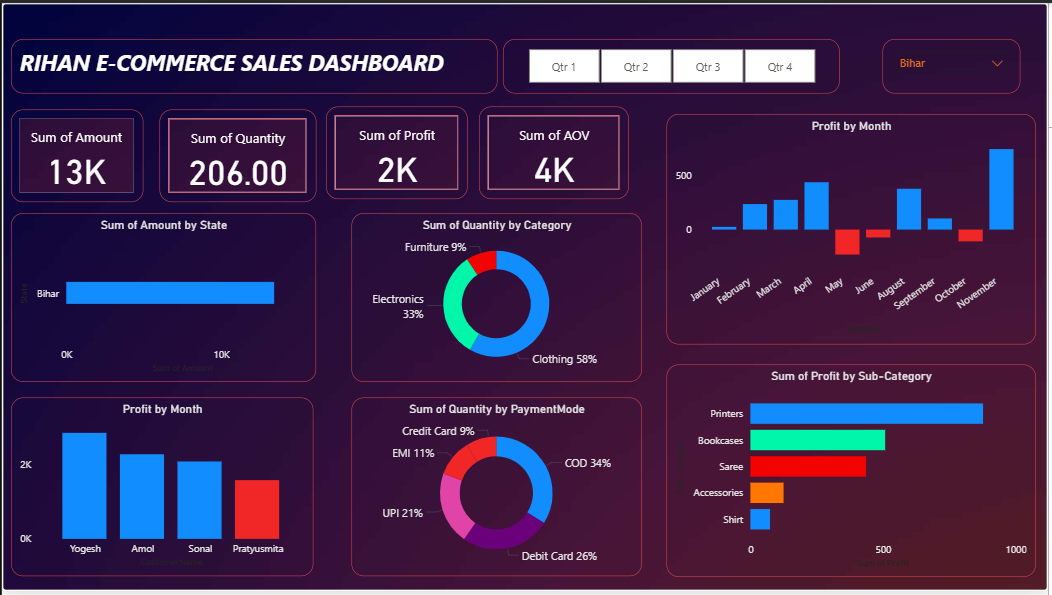

This screenshot's page, from the dashboard's own definition file:
{"tool":"powerbi","page":{"name":"Page 1","canvas":[1280,720],"ordinal":0},"visuals":[{"type":"textbox","box":[11.7,43.3,595,66.7],"z":0},{"type":"columnChart","title":" Profit by Month","fields":{"Y":["Details.Profit"],"Category":["Orders.Order Date.Variation.Date Hierarchy.Month"]},"box":[813.3,135,451.7,281.7],"z":1000},{"type":"barChart","fields":{"Category":["Details.Sub-Category"],"Y":["Details.Profit"]},"box":[813.3,441.7,451.7,260],"z":2000},{"type":"donutChart","fields":{"Category":["Details.PaymentMode"],"Y":["Details.Quantity"]},"box":[428.3,483.3,355,218.3],"z":3000},{"type":"donutChart","fields":{"Category":["Details.Category"],"Y":["Details.Quantity"]},"box":[428.3,256.7,355,206.7],"z":4000},{"type":"cardVisual","fields":{"Data":["Details.Quantity"]},"box":[193.3,130,191.7,113.3],"z":5000},{"type":"cardVisual","fields":{"Data":["Details.Profit"]},"box":[396.7,126.7,173.3,113.3],"z":6000},{"type":"cardVisual","fields":{"Data":["Details.Amount"]},"box":[11.7,130,161.7,113.3],"z":7000},{"type":"cardVisual","fields":{"Data":["Details.AOV"]},"box":[583.3,126.7,183.3,113.3],"z":8000},{"type":"barChart","fields":{"Category":["Orders.State"],"Y":["Details.Amount"]},"box":[11.7,256.7,373.3,206.7],"z":9000},{"type":"columnChart","title":" Profit by Month","fields":{"Y":["Details.Amount"],"Category":["Orders.CustomerName"]},"box":[11.7,483.3,370,218.3],"z":10000},{"type":"slicer","fields":{"Values":["Orders.Order Date.Variation.Date Hierarchy.Quarter"]},"box":[613.3,43.3,411.7,66.7],"z":11000},{"type":"slicer","fields":{"Values":["Orders.State"]},"box":[1076.7,43.3,168.3,66.7],"z":12000}]}

Visuals, with their boxes in screenshot pixels (x1, y1, x2, y2), scaled from the page's 1280x720 canvas onto the 1052x595 screenshot:
textbox: (left=10, top=36, right=499, bottom=91)
" Profit by Month" columnChart: (left=668, top=112, right=1040, bottom=344)
barChart - Details.Sub-Category x Details.Profit: (left=668, top=365, right=1040, bottom=580)
donutChart - Details.PaymentMode x Details.Quantity: (left=352, top=399, right=644, bottom=580)
donutChart - Details.Category x Details.Quantity: (left=352, top=212, right=644, bottom=383)
cardVisual - Details.Quantity: (left=159, top=107, right=316, bottom=201)
cardVisual - Details.Profit: (left=326, top=105, right=468, bottom=198)
cardVisual - Details.Amount: (left=10, top=107, right=143, bottom=201)
cardVisual - Details.AOV: (left=479, top=105, right=630, bottom=198)
barChart - Orders.State x Details.Amount: (left=10, top=212, right=316, bottom=383)
" Profit by Month" columnChart: (left=10, top=399, right=314, bottom=580)
slicer - Orders.Order Date.Variation.Date Hierarchy.Quarter: (left=504, top=36, right=842, bottom=91)
slicer - Orders.State: (left=885, top=36, right=1023, bottom=91)
